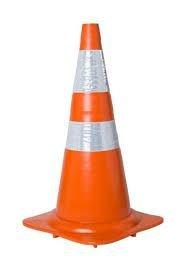traffic_cone: (22, 22, 164, 248)
